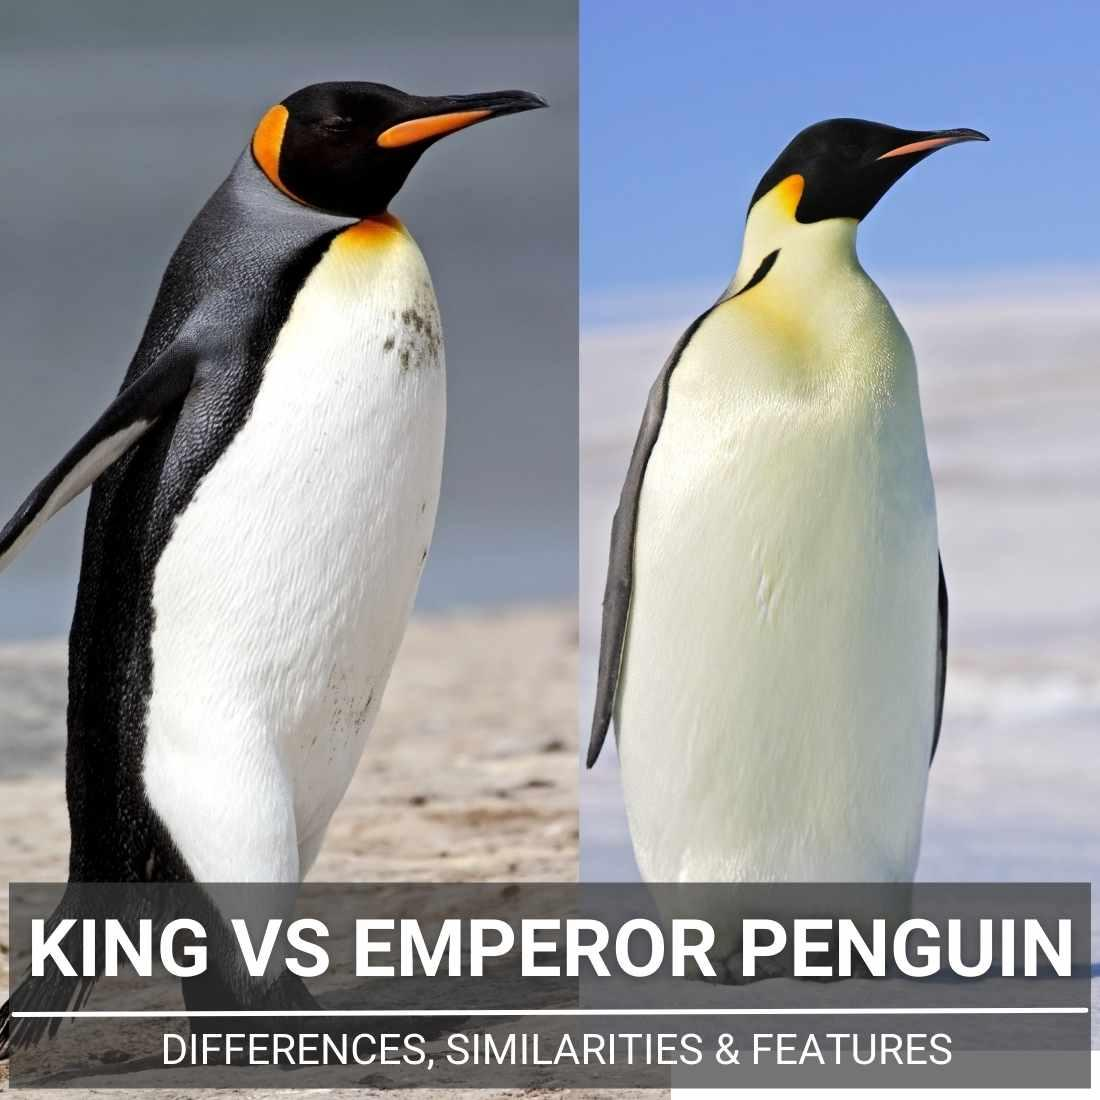king: (0, 47, 547, 961)
